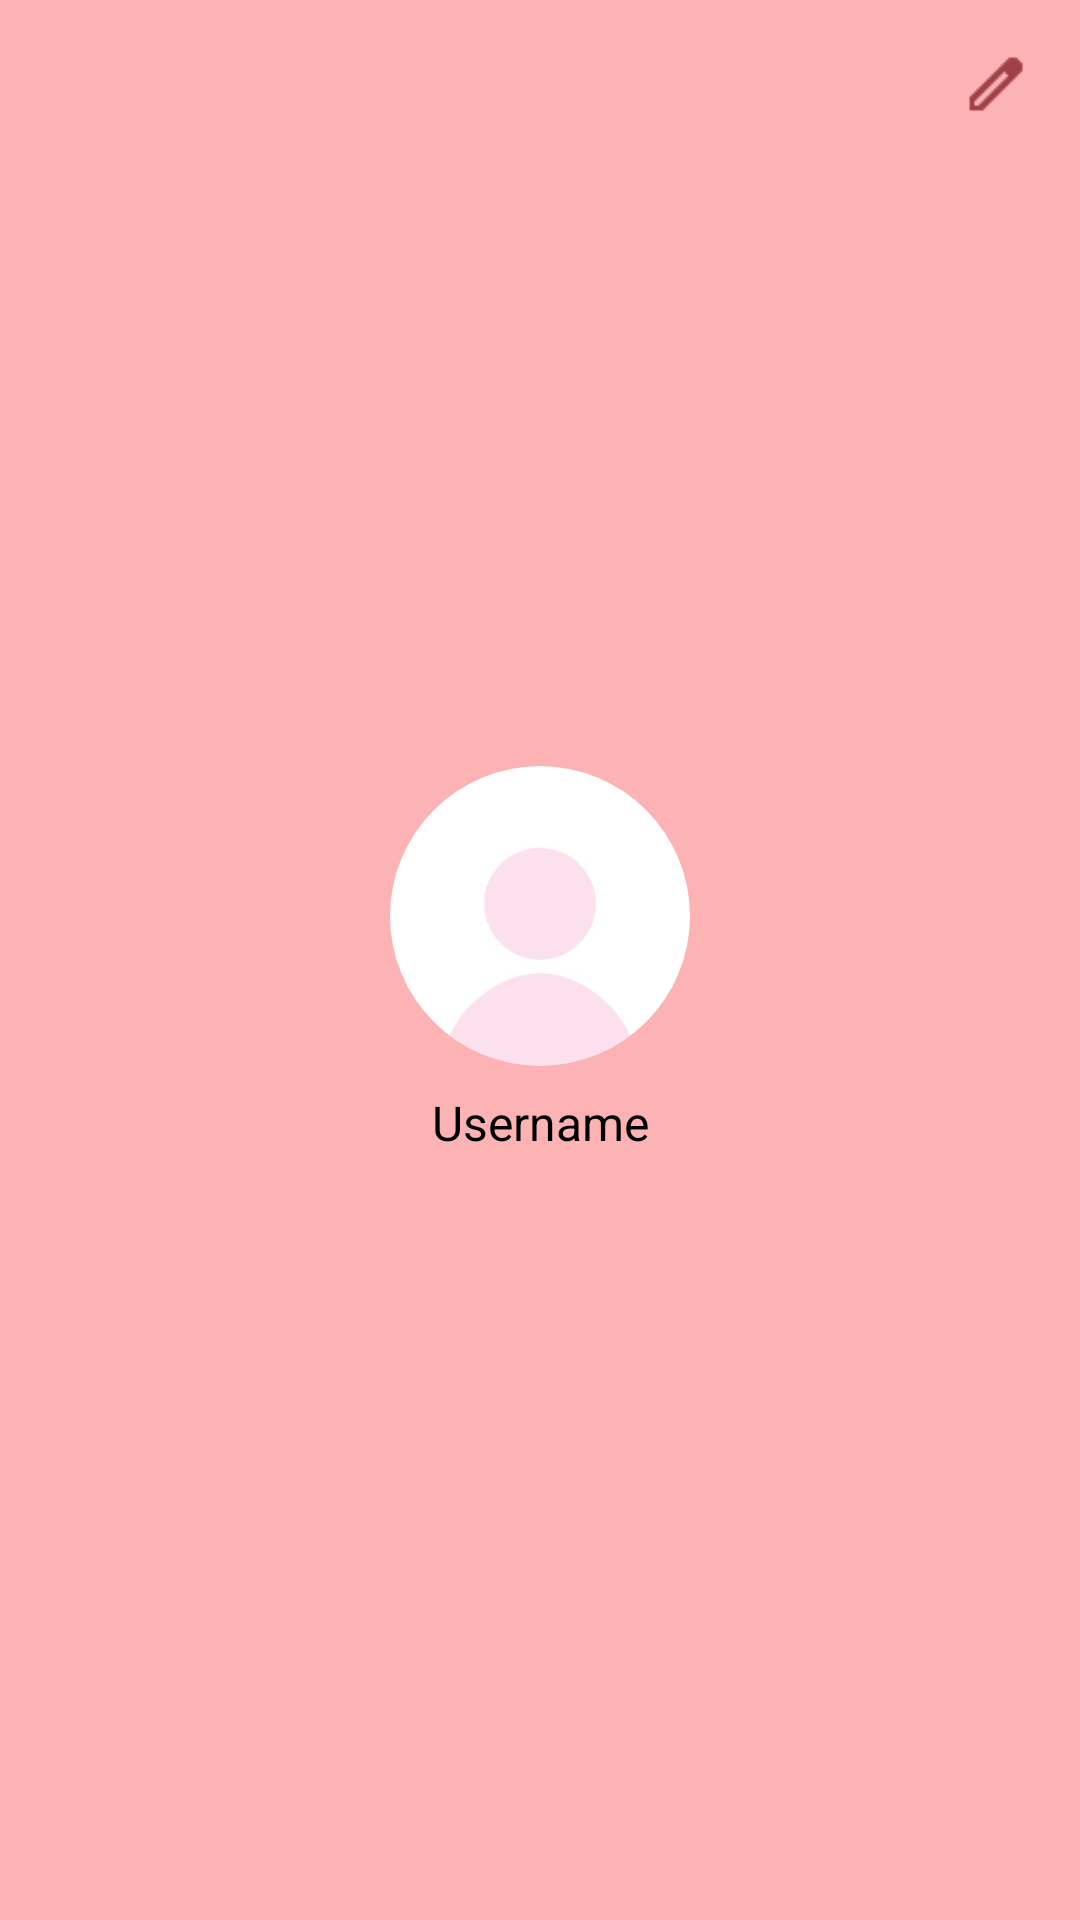

Where to tap for icons on this 1080 x 1920 app screen, as [x,y]:
Edit Profile: [996,84]
profile: [540,916]
